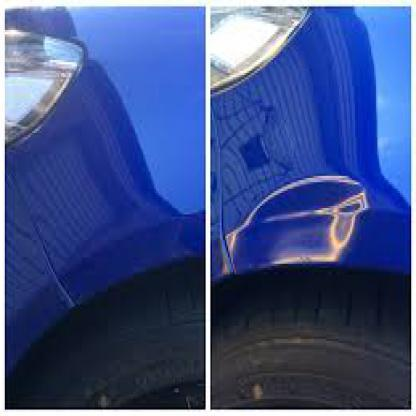dent: (219, 172, 385, 266)
